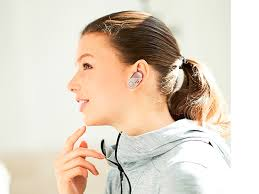earphone: (127, 59, 149, 92)
